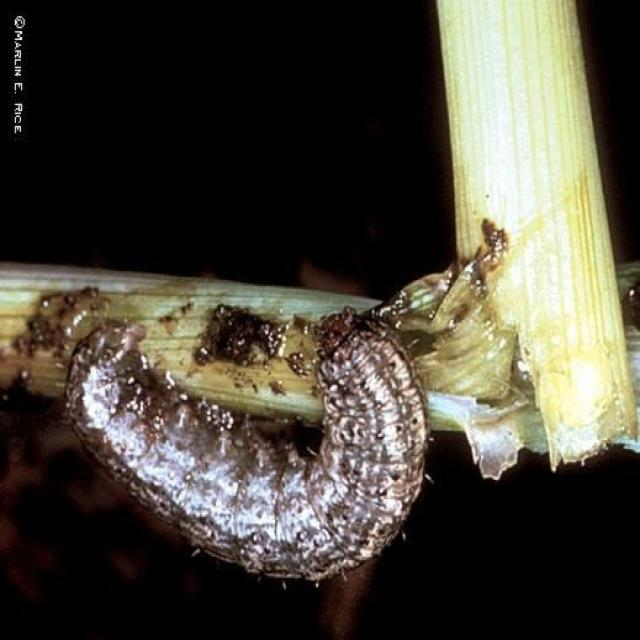black cutworm: (54, 295, 431, 593)
